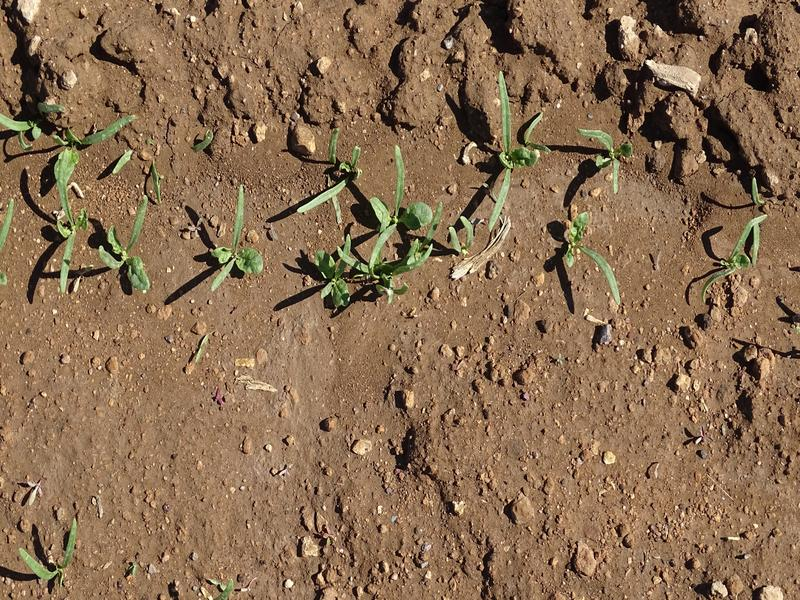Espinaca: (34, 109, 174, 296), (307, 136, 447, 301), (555, 208, 626, 311), (488, 88, 542, 220), (205, 175, 265, 287), (712, 215, 773, 289), (583, 112, 640, 191), (17, 521, 82, 578)
